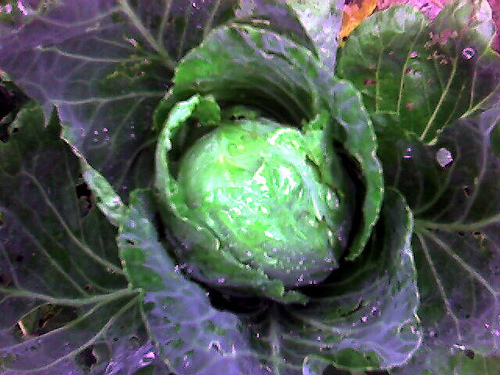cabbage: (0, 0, 498, 373)
